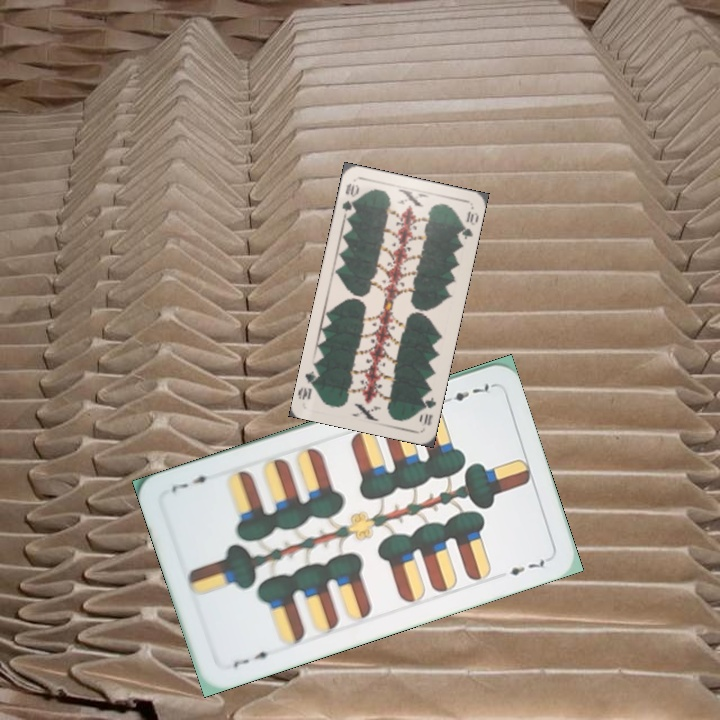E7: (437, 379, 495, 407), (229, 647, 278, 670)
G10: (338, 179, 362, 220), (417, 388, 439, 428)
